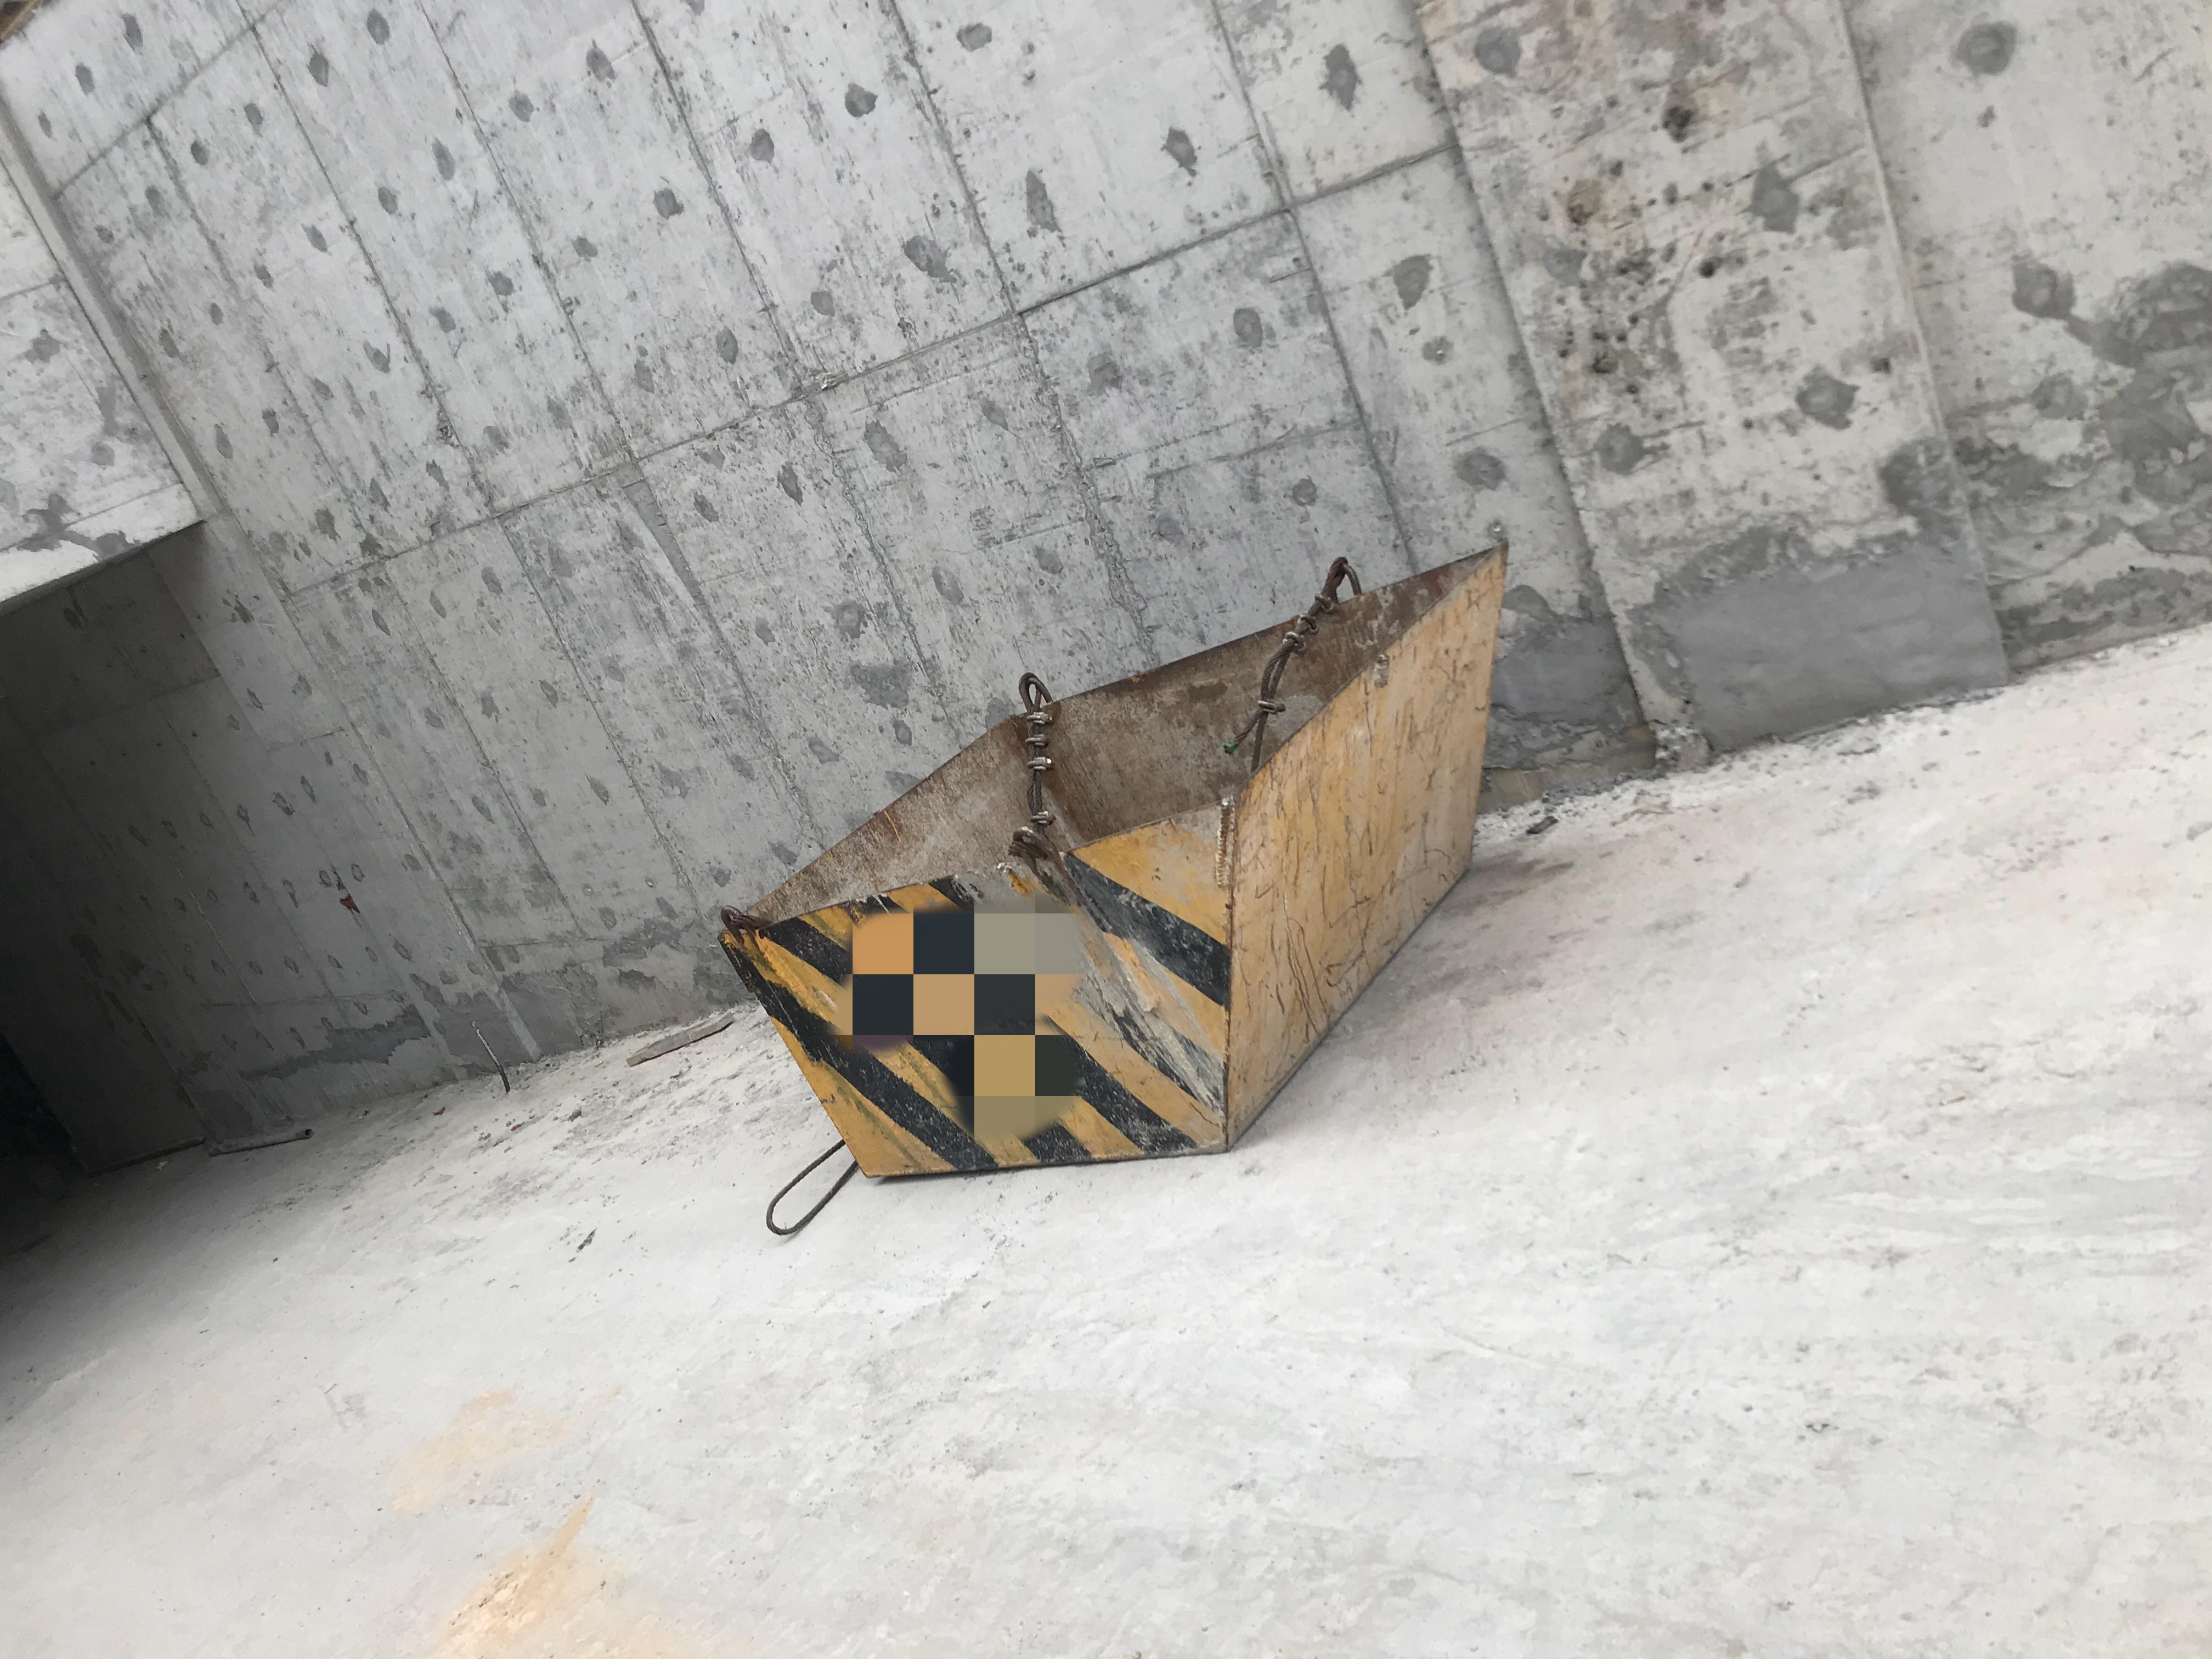hopper: (711, 532, 1533, 1188)
